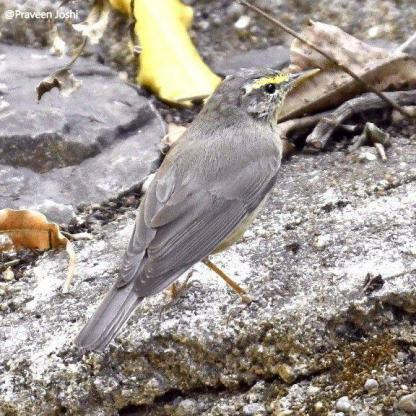Burung: (73, 63, 329, 358)
